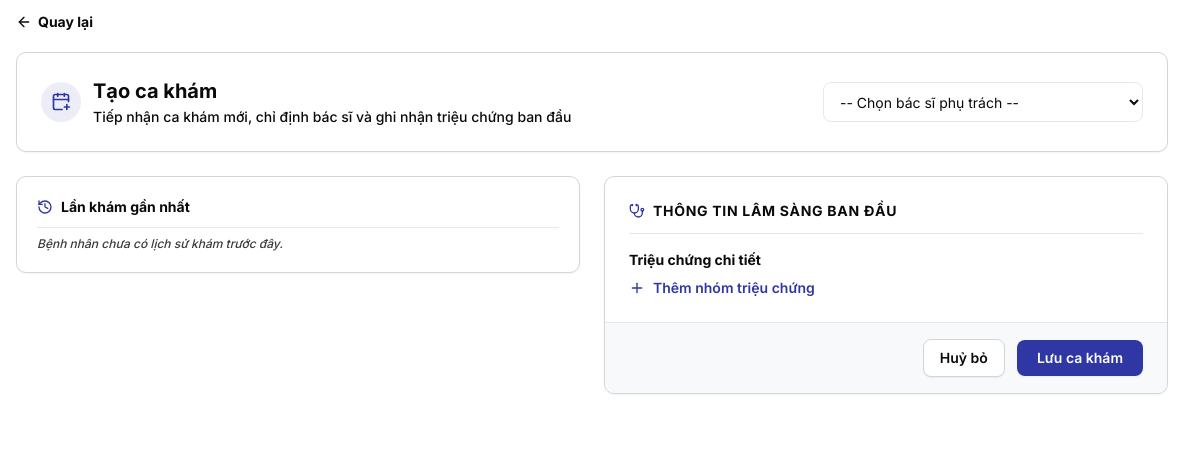
CreateCaseForm › chặn lưu khi Điều dưỡng chưa chọn bác sĩ
This screenshot has width=1185, height=471.
Click the button "Lưu ca khám" at [1080, 358], box [1017, 340, 1143, 376]
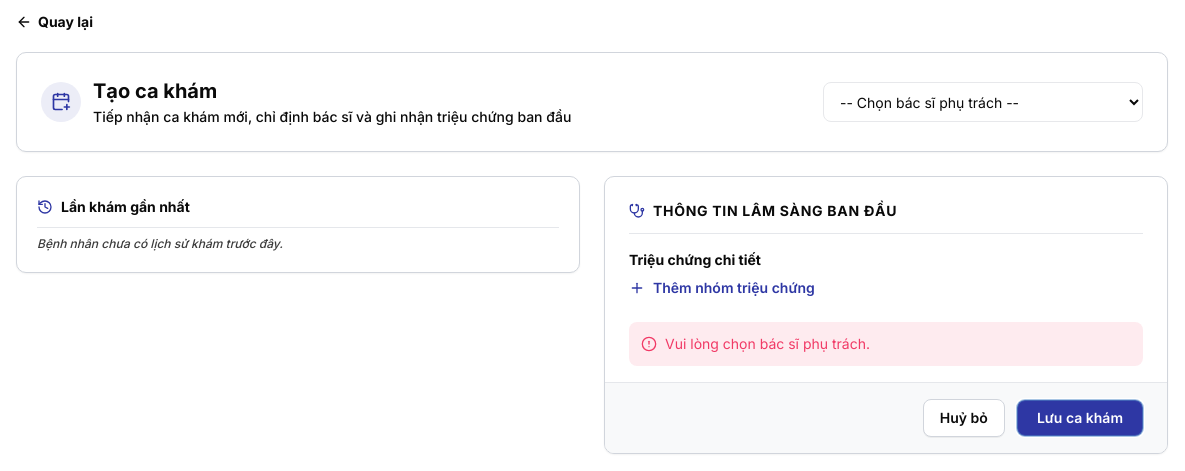
Check: the message shows "chọn bác sĩ", box [665, 335, 870, 352]
